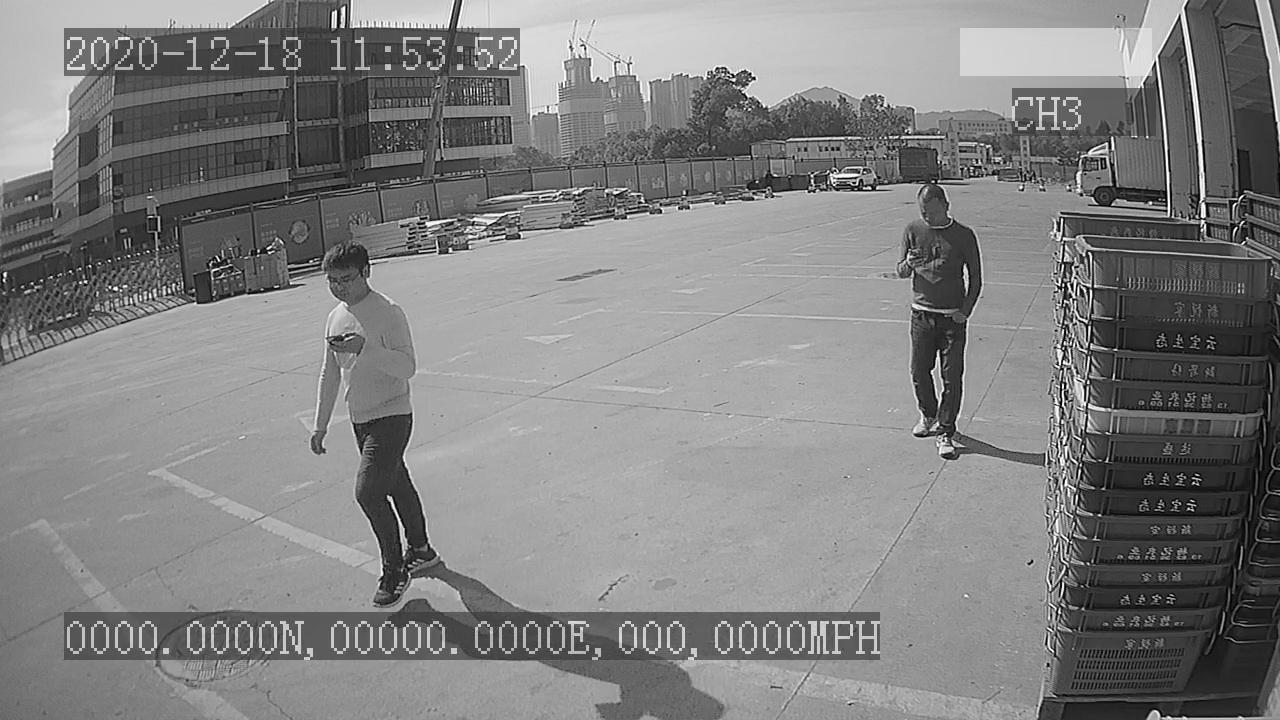person: (299, 238, 447, 613), (890, 179, 986, 467)
